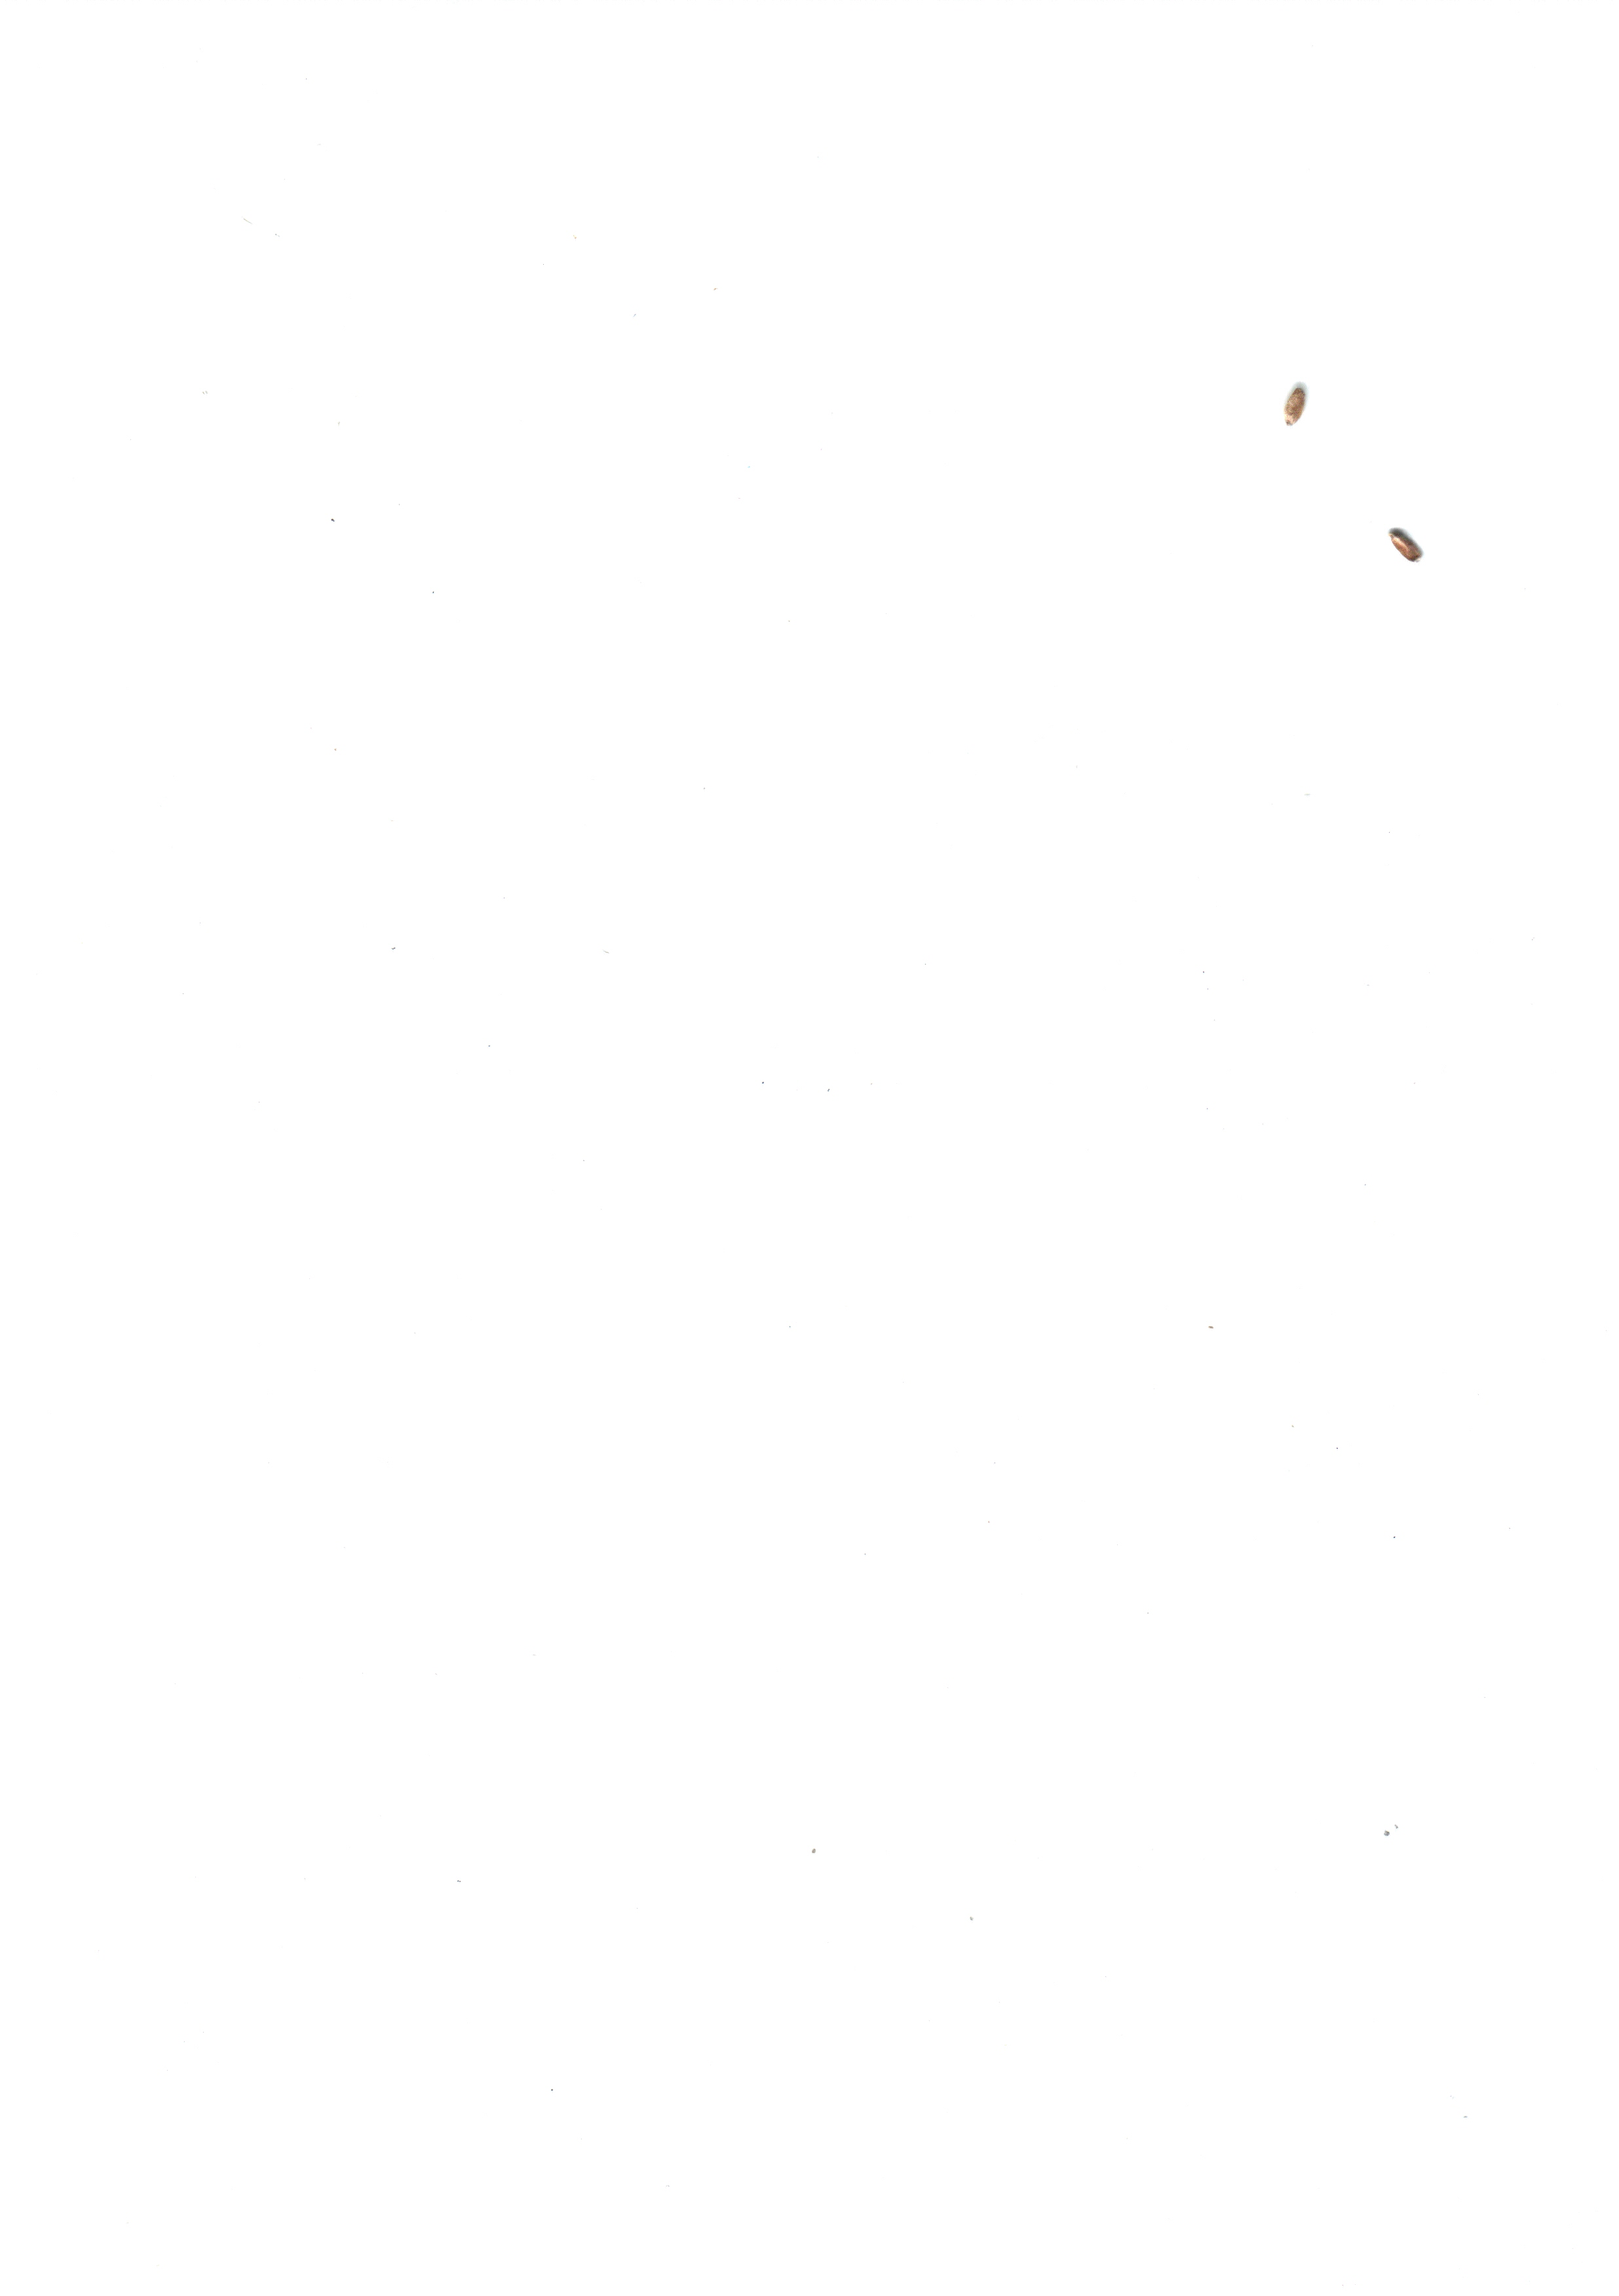grains_2mm: (1276, 377, 1318, 449), (1381, 519, 1428, 582)
